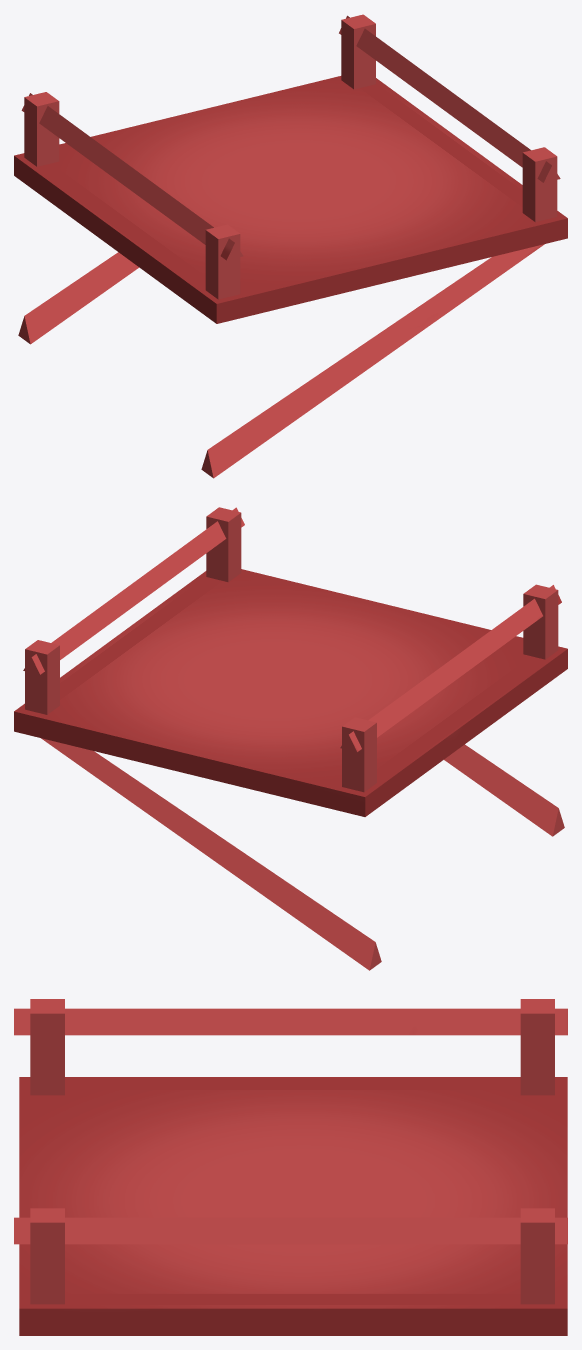
File: Plataforma.fbx
3 renders of one model, top to bottom at view 1: azimuth 30°, elevation 25°; view 2: azimuth 150°, elevation 25°; view 3: azimuth 270°, elevation 25°, orthographic. The views are drawn at different scales.
Visible parts, largest first — view 1: Cylinder.012; view 2: Cylinder.012; view 3: Cylinder.012.
Part boxes in pixels (x1,y1,x2,y2): Cylinder.012: (14, 14, 567, 478); Cylinder.012: (14, 507, 567, 970); Cylinder.012: (14, 999, 567, 1335).
Bounding box in the file's own units: 589 × 380 × 595.
